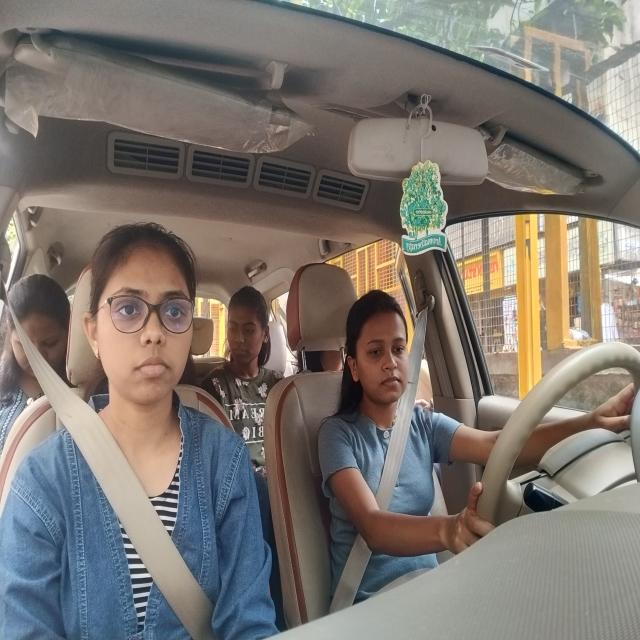person: (85, 217, 199, 432), (341, 283, 430, 420), (5, 260, 78, 402), (218, 275, 273, 382)
